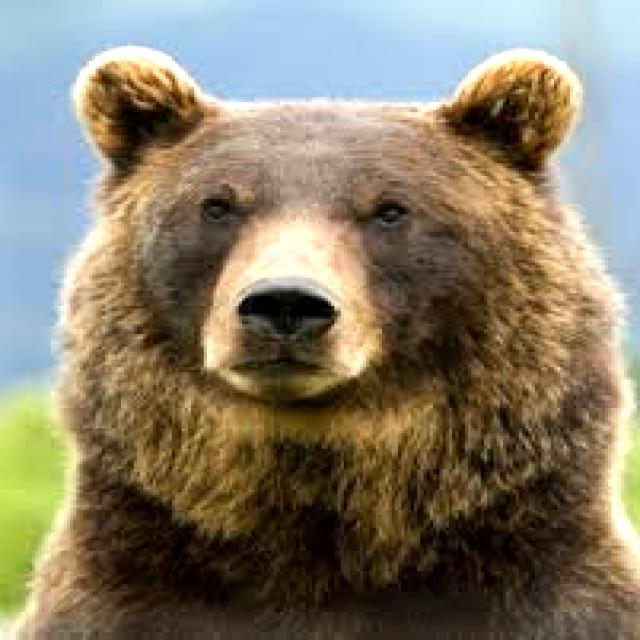bear: (69, 50, 640, 640)
